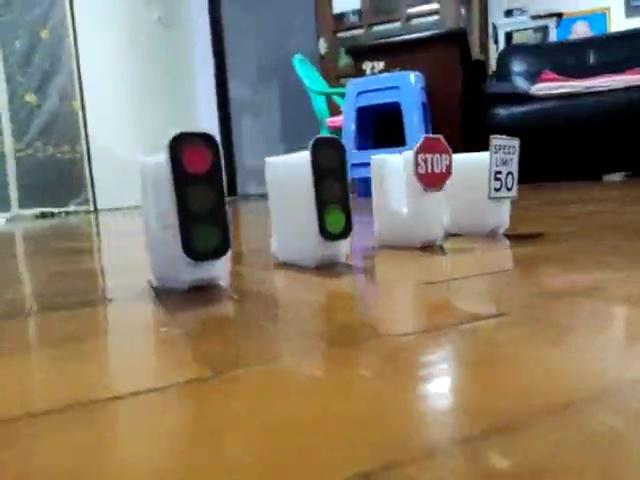Green Traffic Light: (308, 135, 353, 241)
Red Traffic Light: (167, 129, 233, 262)
Speed Limit 50: (488, 132, 522, 198)
Stop Sign: (412, 135, 456, 193)
